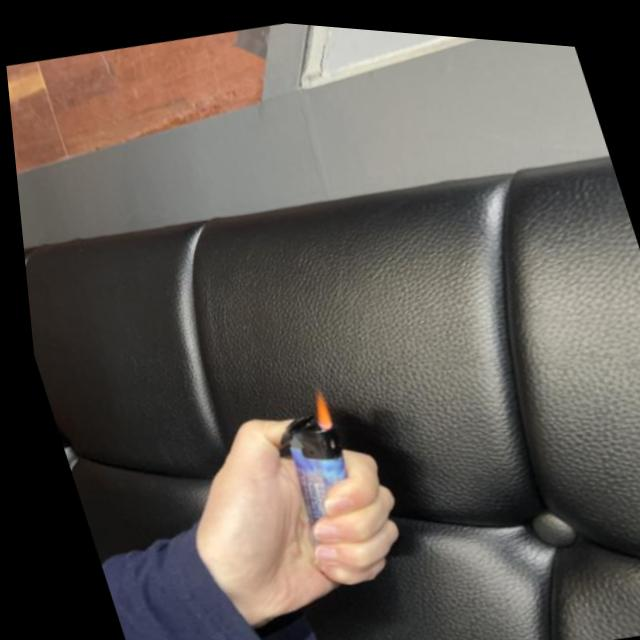Fire: (297, 381, 328, 430)
